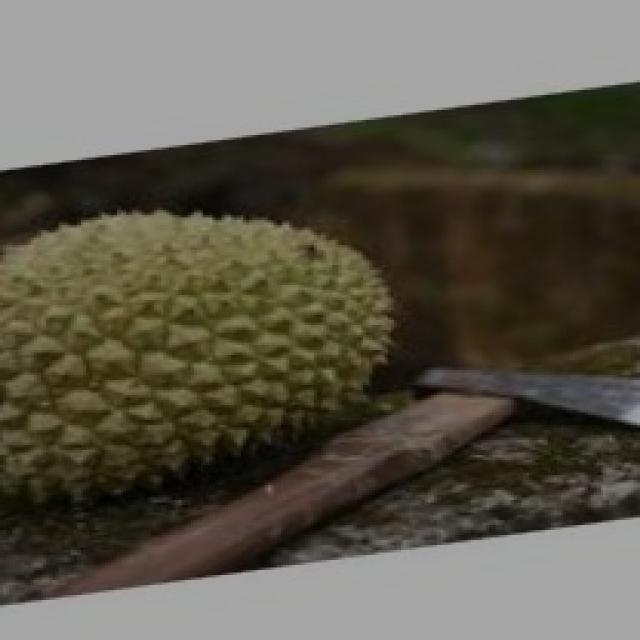fruit: (3, 170, 431, 532)
